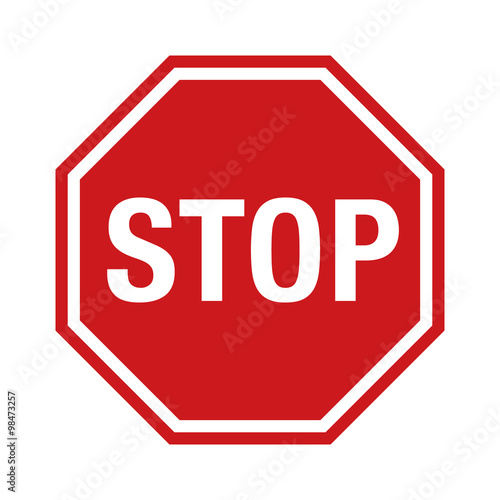StopSign: (54, 55, 444, 443)
